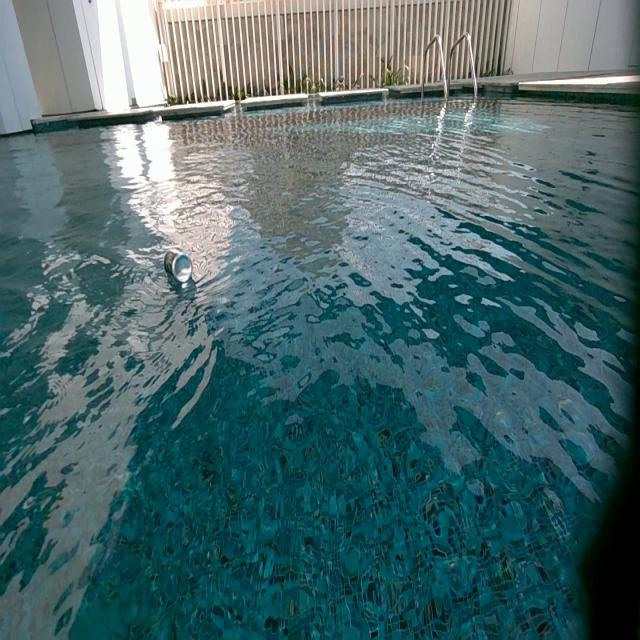Cans: (165, 250, 194, 282)
